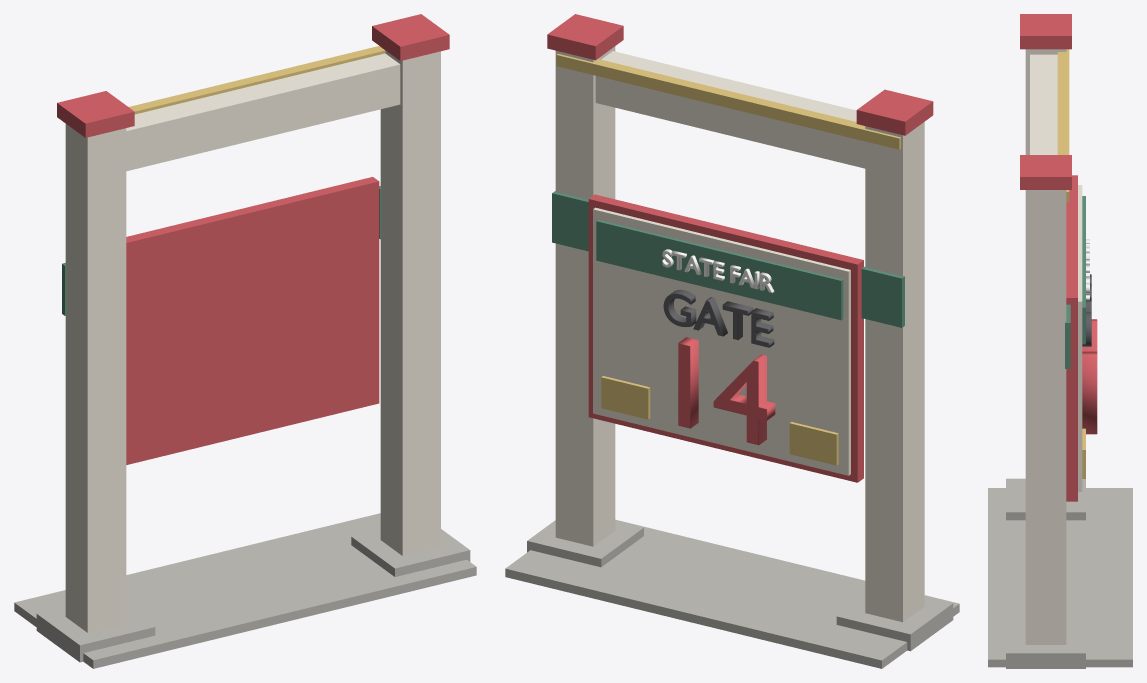
The model's file is state-fair-gate-14.glb.
The picture shows the model from 3 angles, left to right: view 1: azimuth 30°, elevation 25°; view 2: azimuth 150°, elevation 25°; view 3: azimuth 270°, elevation 25°; orthographic projection. The views are drawn at different scales.
Visible parts, largest first — view 1: SFG_SignBack, SFG_PostL, SFG_PostR, SFG_Pad, SFG_HeaderBeam, SFG_FootingL, SFG_FootingR, SFG_PostCapL, SFG_PostCapR, SFG_HeaderAccent; view 2: SFG_SignFace, SFG_PostL, SFG_Pad, SFG_PostR, SFG_HeaderBeam, SFG_Ribbon, SFG_SignBack, SFG_HeaderAccent, SFG_GateNumber, SFG_FootingL, SFG_GateLabel, SFG_FootingR (+7 smaller); view 3: SFG_PostR, SFG_Pad, SFG_SignBack, SFG_FootingR, SFG_HeaderBeam, SFG_PostCapL, SFG_PostCapR, SFG_GateNumber, SFG_SignFace, SFG_HeaderAccent, SFG_FootingL, SFG_PostL (+4 smaller).
Boxes of the visible parts, bbox=[...] form: SFG_SignBack: bbox=[126, 177, 379, 464]; SFG_PostL: bbox=[65, 124, 126, 632]; SFG_PostR: bbox=[380, 47, 440, 555]; SFG_Pad: bbox=[14, 513, 476, 668]; SFG_HeaderBeam: bbox=[126, 53, 400, 171]; SFG_FootingL: bbox=[36, 606, 155, 662]; SFG_FootingR: bbox=[351, 529, 470, 576]; SFG_PostCapL: bbox=[57, 91, 134, 137]; SFG_PostCapR: bbox=[372, 14, 449, 60]; SFG_HeaderAccent: bbox=[129, 46, 385, 114]; SFG_SignFace: bbox=[593, 207, 850, 475]; SFG_PostL: bbox=[865, 122, 924, 622]; SFG_Pad: bbox=[505, 519, 959, 668]; SFG_PostR: bbox=[555, 46, 615, 546]; SFG_HeaderBeam: bbox=[595, 51, 865, 168]; SFG_Ribbon: bbox=[596, 220, 843, 320]; SFG_SignBack: bbox=[588, 194, 863, 482]; SFG_HeaderAccent: bbox=[556, 54, 900, 149]; SFG_GateNumber: bbox=[678, 337, 775, 445]; SFG_FootingL: bbox=[836, 596, 953, 651]; SFG_GateLabel: bbox=[663, 289, 774, 347]; SFG_FootingR: bbox=[527, 520, 643, 567]; SFG_PostR: bbox=[1025, 190, 1066, 644]; SFG_Pad: bbox=[988, 488, 1132, 667]; SFG_SignBack: bbox=[1066, 175, 1077, 501]; SFG_FootingR: bbox=[1006, 619, 1085, 668]; SFG_HeaderBeam: bbox=[1030, 54, 1057, 154]; SFG_PostCapL: bbox=[1020, 14, 1071, 49]; SFG_PostCapR: bbox=[1020, 155, 1071, 189]; SFG_GateNumber: bbox=[1082, 319, 1097, 434]; SFG_SignFace: bbox=[1078, 185, 1082, 491]; SFG_HeaderAccent: bbox=[1057, 49, 1069, 202]; SFG_FootingL: bbox=[1006, 478, 1085, 520]; SFG_PostL: bbox=[1025, 49, 1066, 154].
Size of the model in its own units: 2.85 by 3.7 by 1.
